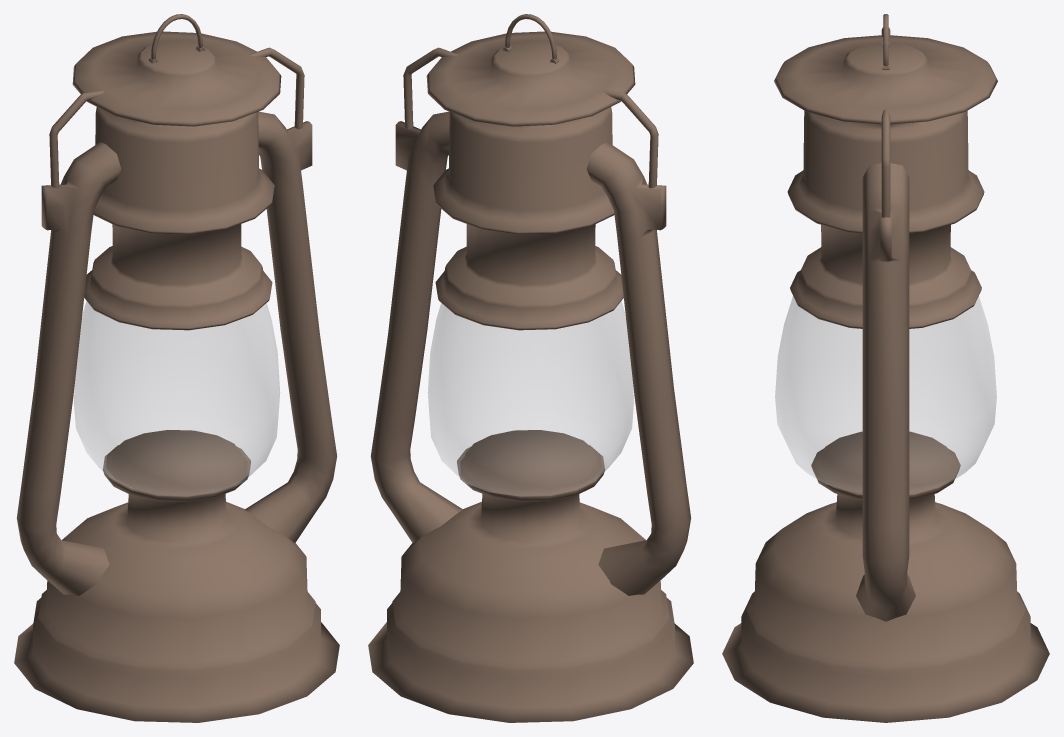
File: Lamp.fbx
The picture shows the model from 3 angles, left to right: view 1: azimuth 30°, elevation 25°; view 2: azimuth 150°, elevation 25°; view 3: azimuth 270°, elevation 25°; orthographic projection.
Parts seen in each view (by area): view 1: Lamp; view 2: Lamp; view 3: Lamp.
Part boxes in pixels (box(x1,y1,x2,y2)): Lamp: box(14, 14, 339, 722); Lamp: box(368, 14, 693, 722); Lamp: box(722, 14, 1049, 722).
Bounding box in the file's own units: 43.32 × 84.43 × 39.33.
